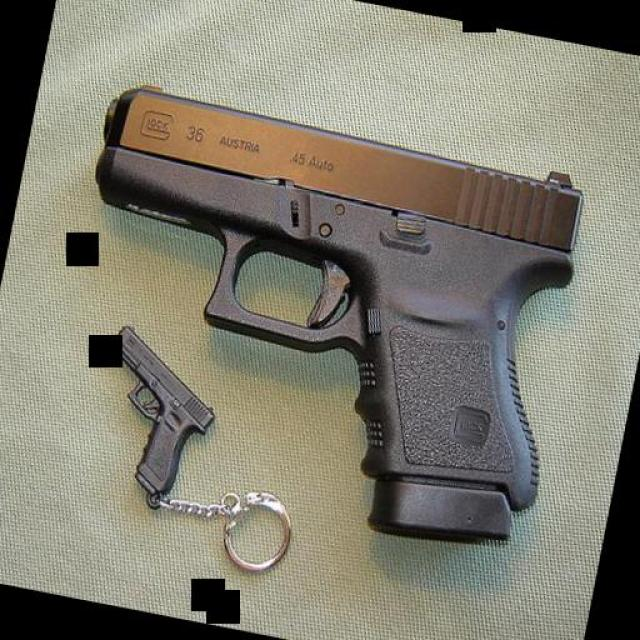gun: (32, 70, 604, 564), (82, 320, 226, 515)
